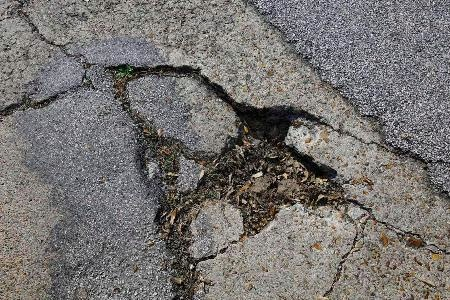pothole: (102, 59, 347, 268)
